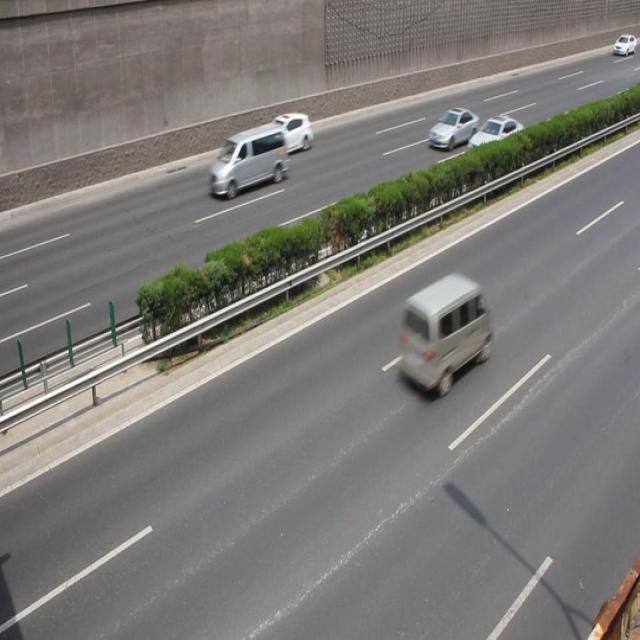car: (466, 111, 524, 165), (262, 110, 312, 161), (427, 104, 478, 153)
truck: (397, 274, 491, 396), (206, 122, 287, 200)
